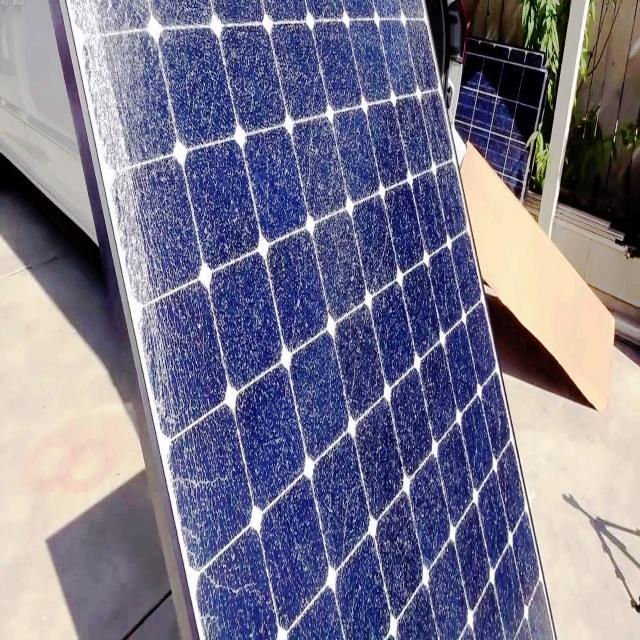faulty: (63, 5, 561, 640)
